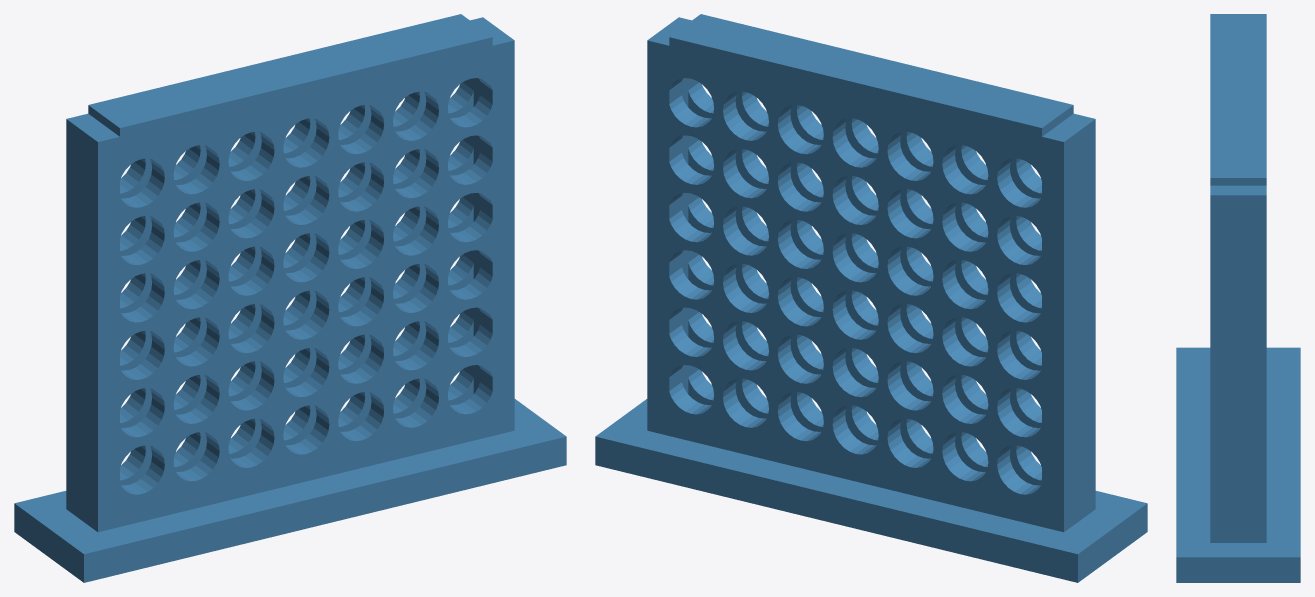
File: connect_four_stand.glb
The picture shows the model from 3 angles, left to right: view 1: azimuth 30°, elevation 25°; view 2: azimuth 150°, elevation 25°; view 3: azimuth 270°, elevation 25°; orthographic projection. The views are drawn at different scales.
Visible parts, largest first — view 1: world; view 2: world; view 3: world.
Part boxes in pixels (left/top/right/bottom): world: left=14, top=14, right=566, bottom=582; world: left=595, top=14, right=1147, bottom=582; world: left=1176, top=14, right=1300, bottom=582.
Bounding box in the file's own units: 8.8 × 7.45 × 2.2.
